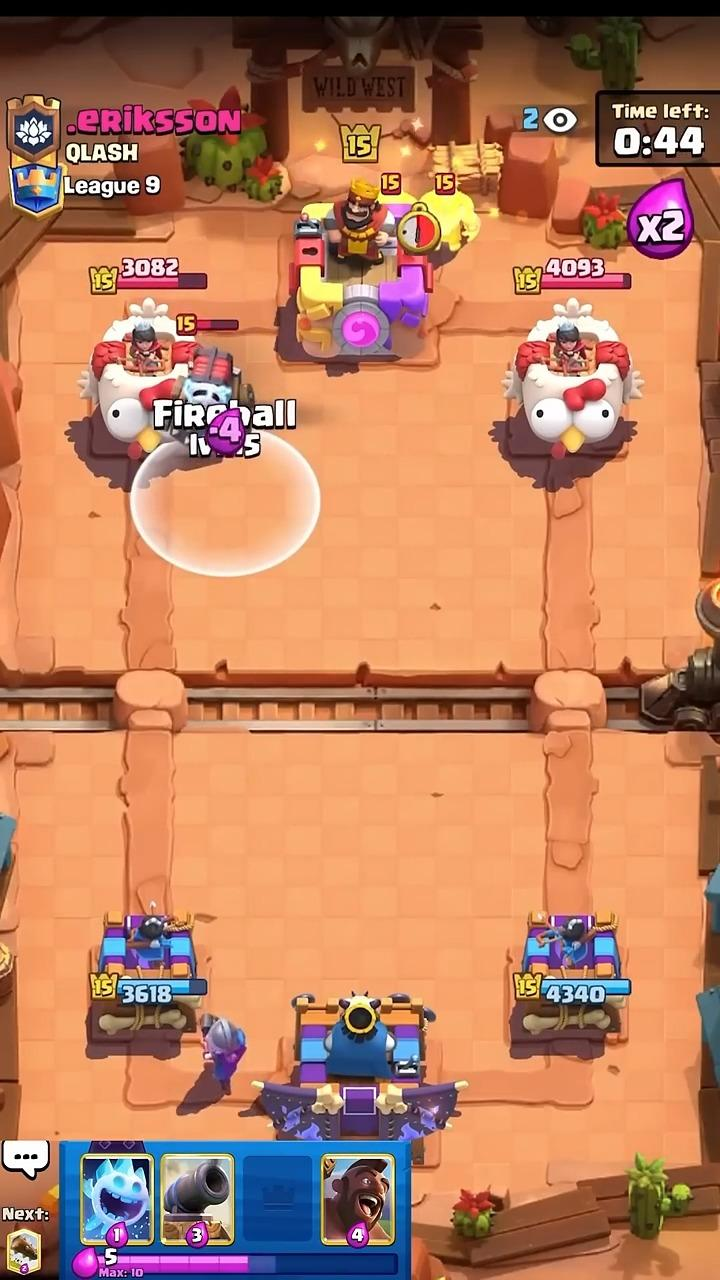elite barbarians: (422, 191, 479, 251)
musketeer: (203, 1015, 245, 1095)
sparky: (181, 346, 254, 409), (174, 426, 194, 439)
